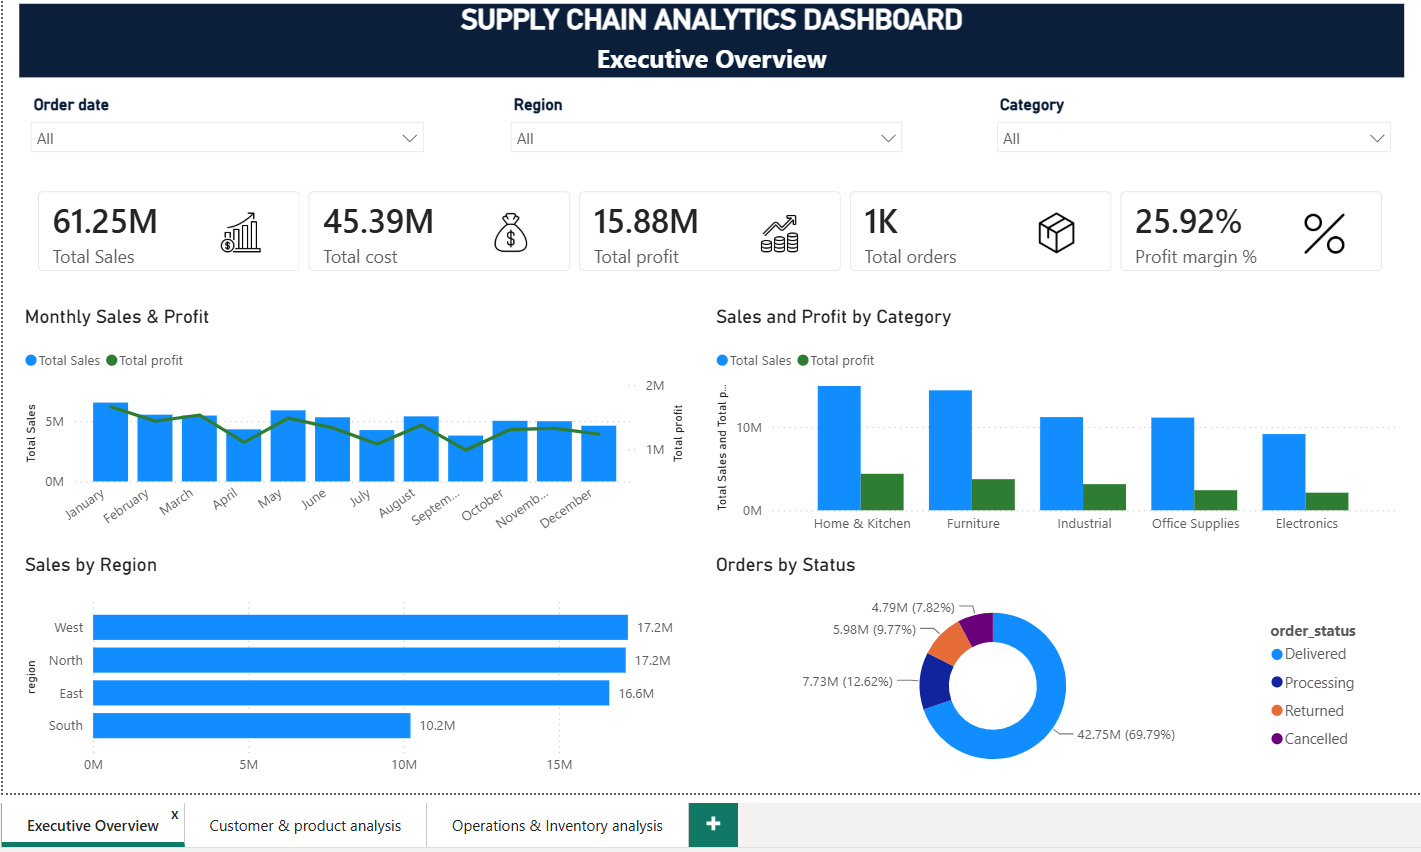

The page's visual inventory and layout, read from the dashboard file:
{"tool":"powerbi","page":{"name":"Executive Overview","canvas":[1280,720],"ordinal":0},"visuals":[{"type":"cardVisual","fields":{"Data":["orders_clean.Total_Sales","orders_clean.Total_cost","orders_clean.Total_profit","orders_clean.Total_orders","orders_clean.Profit_margin %"]},"box":[15.1,160.5,1247.7,107],"z":0},{"type":"lineStackedColumnComboChart","title":"Monthly Sales & Profit","fields":{"Category":["orders_clean.order_date.Variation.Date Hierarchy.Month"],"Y":["orders_clean.Total_Sales"],"Y2":["orders_clean.Total_profit"]},"box":[15.1,279.1,605.8,215.1],"z":1000},{"type":"clusteredBarChart","title":"Sales by Region","fields":{"Category":["customers_clean.region"],"Y":["orders_clean.Total_Sales"]},"box":[15.1,503.5,607,208.1],"z":2000},{"type":"clusteredColumnChart","title":"Sales and Profit by Category","fields":{"Category":["products_clean.category"],"Y":["orders_clean.Total_Sales","orders_clean.Total_profit"]},"box":[638.4,279.1,623.3,215.1],"z":3000},{"type":"donutChart","title":"Orders  by Status","fields":{"Category":["orders_clean.order_status"],"Y":["orders_clean.Total_Sales"]},"box":[638.4,503.5,604.7,208.1],"z":4000},{"type":"textbox","title":"SUPPLY CHAIN ANALYTICS DASHBOARD","box":[15.1,8.1,1248.8,66.3],"z":5000},{"type":"slicer","fields":{"Values":["orders_clean.order_date"]},"box":[15.1,86,374.4,66.3],"z":6000},{"type":"slicer","fields":{"Values":["customers_clean.region"]},"box":[447.7,86,373.3,66.3],"z":7000},{"type":"slicer","fields":{"Values":["products_clean.category"]},"box":[886,86,375.6,66.3],"z":8000},{"type":"image","box":[922,195.7,56,37],"z":9000},{"type":"image","box":[1162.9,196.9,56,36],"z":10000},{"type":"image","box":[671.3,196.9,56,36],"z":11000},{"type":"image","box":[429.2,195.7,56,36],"z":12000},{"type":"image","box":[185.9,195.7,56,36],"z":13000}]}

Visuals, with their boxes on the page's 1280x720 design canvas (x1, y1, x2, y2). These are canvas units, not pixel positions in the 1421x852 screenshot, which may show the page scaled, cropped or inside an application window:
cardVisual - orders_clean.Total_Sales x orders_clean.Total_cost: crop(15, 160, 1263, 268)
"Monthly Sales & Profit" lineStackedColumnComboChart: crop(15, 279, 621, 494)
"Sales by Region" clusteredBarChart: crop(15, 504, 622, 712)
"Sales and Profit by Category" clusteredColumnChart: crop(638, 279, 1262, 494)
"Orders  by Status" donutChart: crop(638, 504, 1243, 712)
"SUPPLY CHAIN ANALYTICS DASHBOARD" textbox: crop(15, 8, 1264, 74)
slicer - orders_clean.order_date: crop(15, 86, 390, 152)
slicer - customers_clean.region: crop(448, 86, 821, 152)
slicer - products_clean.category: crop(886, 86, 1262, 152)
image: crop(922, 196, 978, 233)
image: crop(1163, 197, 1219, 233)
image: crop(671, 197, 727, 233)
image: crop(429, 196, 485, 232)
image: crop(186, 196, 242, 232)
